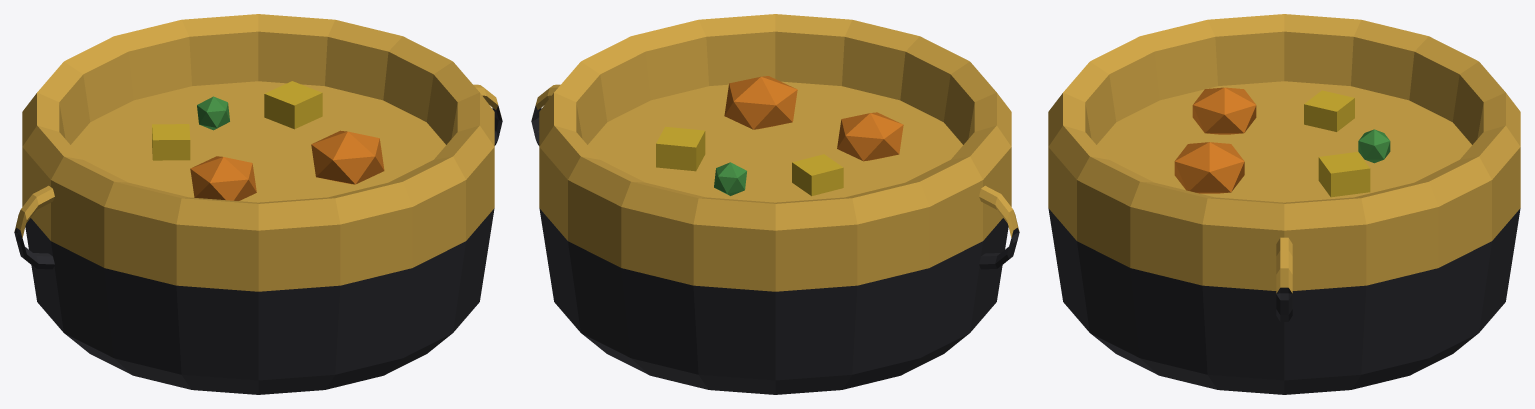
Rendered from Tropical_Stew.glb.
3 views of the same model, side by side, from view 1: azimuth 30°, elevation 25°; view 2: azimuth 150°, elevation 25°; view 3: azimuth 270°, elevation 25° (orthographic).
Visible parts, largest first — view 1: _I_TropicalStew; view 2: _I_TropicalStew; view 3: _I_TropicalStew.
Boxes of the visible parts, x1,y1,x2,y2 form: _I_TropicalStew: (14, 14, 502, 394); _I_TropicalStew: (531, 14, 1019, 394); _I_TropicalStew: (1048, 14, 1520, 394).
Size of the model in its own units: 0.74 by 0.3 by 0.6303.
